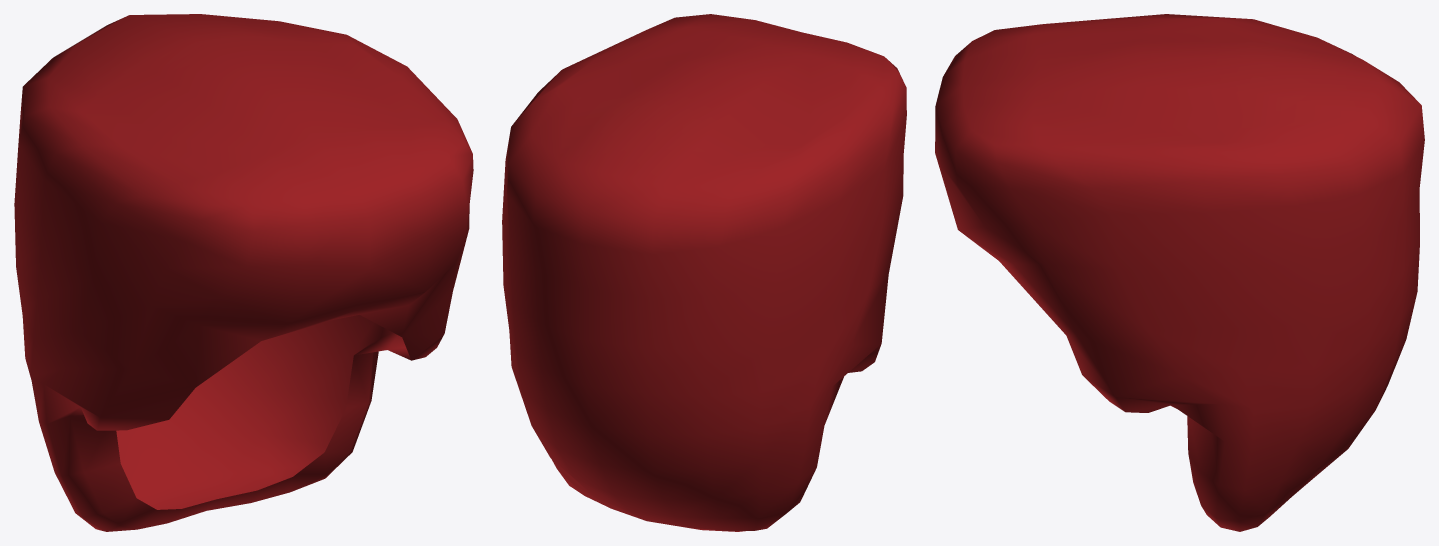
The model's file is NPC_RedHair3.gltf.
3 renders of one model, left to right at view 1: azimuth 30°, elevation 25°; view 2: azimuth 150°, elevation 25°; view 3: azimuth 270°, elevation 25°, orthographic. The views are drawn at different scales.
Visible parts, largest first — view 1: NPC_RedHair.003; view 2: NPC_RedHair.003; view 3: NPC_RedHair.003.
Boxes of the visible parts, x1,y1,x2,y2 form: NPC_RedHair.003: [14, 14, 473, 531]; NPC_RedHair.003: [502, 14, 906, 531]; NPC_RedHair.003: [935, 14, 1424, 531].
Size of the model in its own units: 0.517 by 0.6477 by 0.6599.
Materials: 1 (1 with a texture image).
